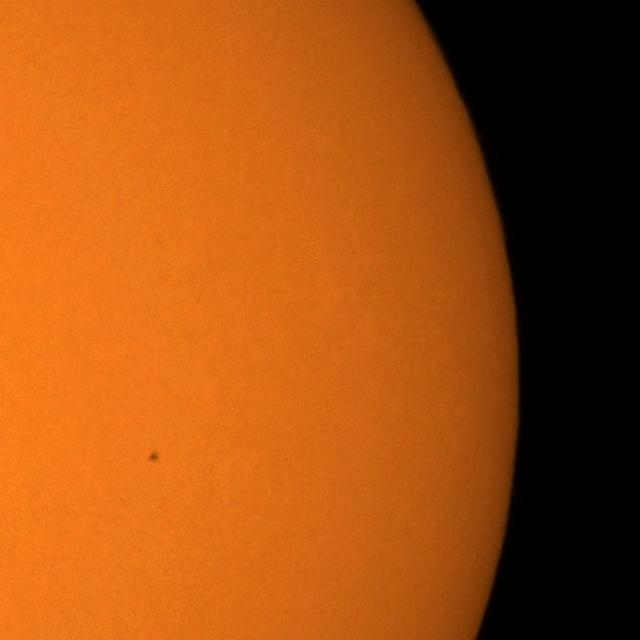sunspot: (146, 450, 160, 464)
